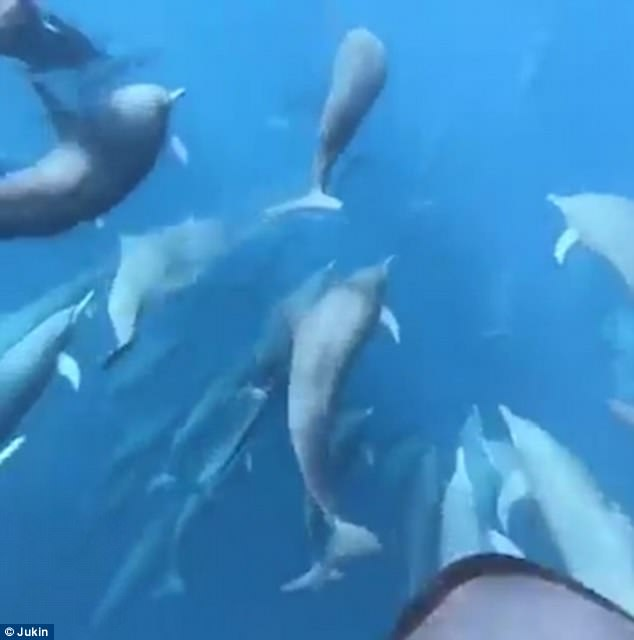dolphin: (263, 241, 420, 597), (255, 13, 411, 230), (1, 73, 194, 246)
